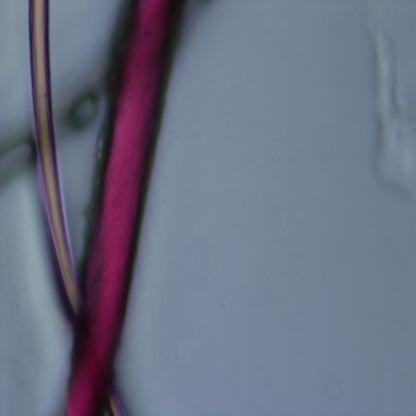Air bubble: (0, 137, 35, 192), (67, 93, 97, 131)
Background material: (362, 24, 416, 211)
Microfibre: (63, 0, 186, 415), (28, 0, 84, 317), (109, 388, 125, 416)
